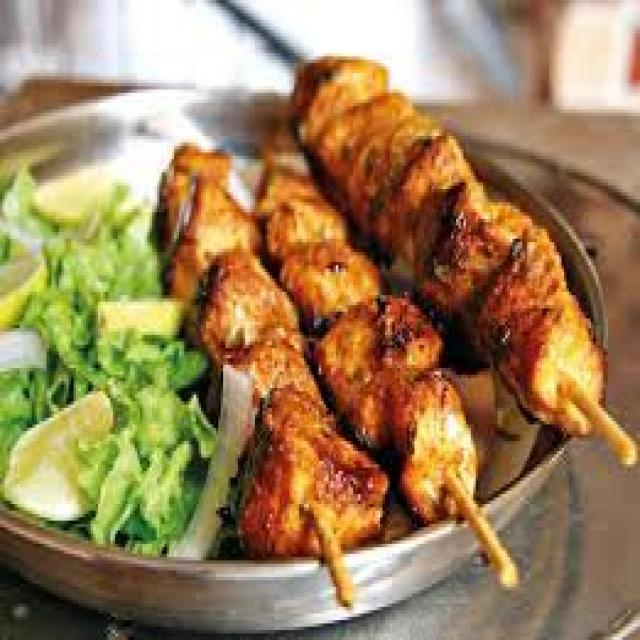Chicken Tikka: (158, 52, 611, 558)
